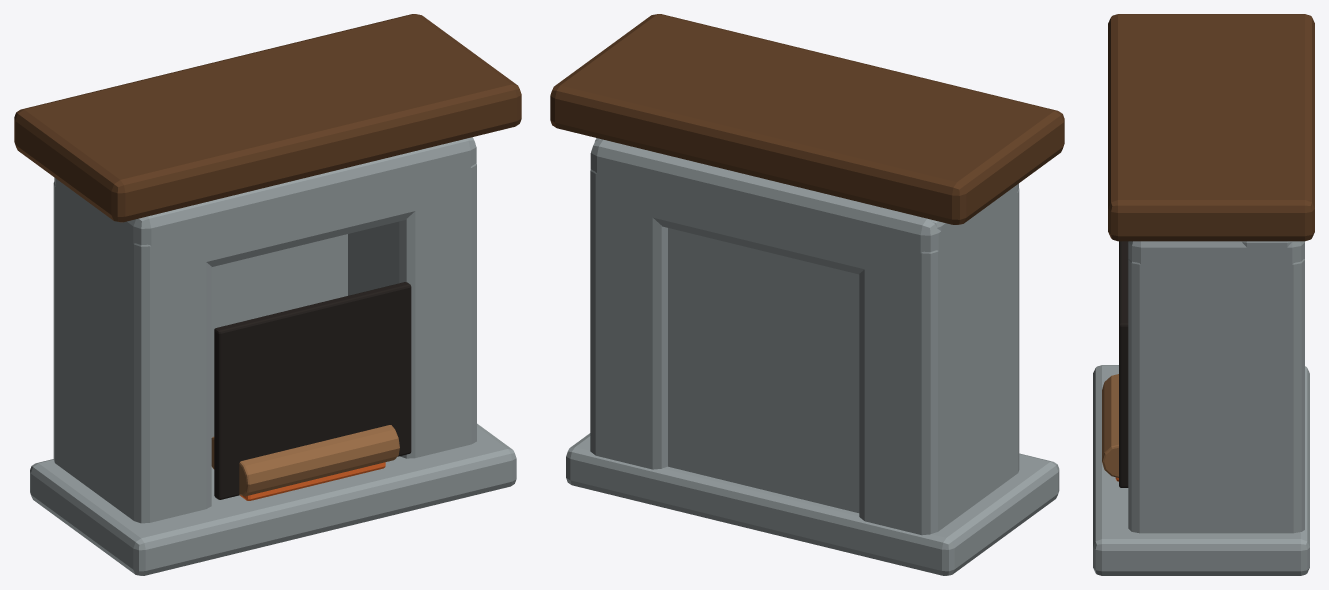
The model's file is hearth_stone_1p8.glb.
3 renders of one model, left to right at view 1: azimuth 30°, elevation 25°; view 2: azimuth 150°, elevation 25°; view 3: azimuth 270°, elevation 25°, orthographic. The views are drawn at different scales.
Parts seen in each view (by area): view 1: hearth_mantel, hearth_left, hearth_firebox, hearth_base, hearth_right, hearth_lintel, hearth_back, hearth_log_01, hearth_embers; view 2: hearth_mantel, hearth_back, hearth_left, hearth_lintel, hearth_base, hearth_right; view 3: hearth_mantel, hearth_right, hearth_base, hearth_back, hearth_lintel, hearth_firebox, hearth_log_01.
Part boxes in pixels (left/top/right/bottom): hearth_mantel: left=14, top=14, right=521, bottom=222; hearth_left: left=53, top=182, right=211, bottom=523; hearth_firebox: left=214, top=282, right=411, bottom=499; hearth_base: left=30, top=423, right=516, bottom=575; hearth_right: left=348, top=163, right=476, bottom=458; hearth_lintel: left=54, top=137, right=476, bottom=272; hearth_back: left=58, top=180, right=347, bottom=480; hearth_log_01: left=239, top=425, right=399, bottom=496; hearth_embers: left=240, top=462, right=385, bottom=500; hearth_mantel: left=550, top=14, right=1064, bottom=224; hearth_back: left=595, top=138, right=962, bottom=528; hearth_left: left=859, top=188, right=1019, bottom=535; hearth_lintel: left=590, top=139, right=1018, bottom=282; hearth_base: left=566, top=433, right=1059, bottom=575; hearth_right: left=590, top=169, right=667, bottom=469; hearth_mantel: left=1108, top=14, right=1314, bottom=241; hearth_right: left=1128, top=259, right=1304, bottom=533; hearth_base: left=1093, top=365, right=1309, bottom=575; hearth_back: left=1241, top=241, right=1292, bottom=533; hearth_lintel: left=1128, top=241, right=1304, bottom=293; hearth_firebox: left=1119, top=241, right=1128, bottom=487; hearth_log_01: left=1102, top=374, right=1118, bottom=477.
Size of the model in its own units: 1.82 by 1.67 by 0.88.
